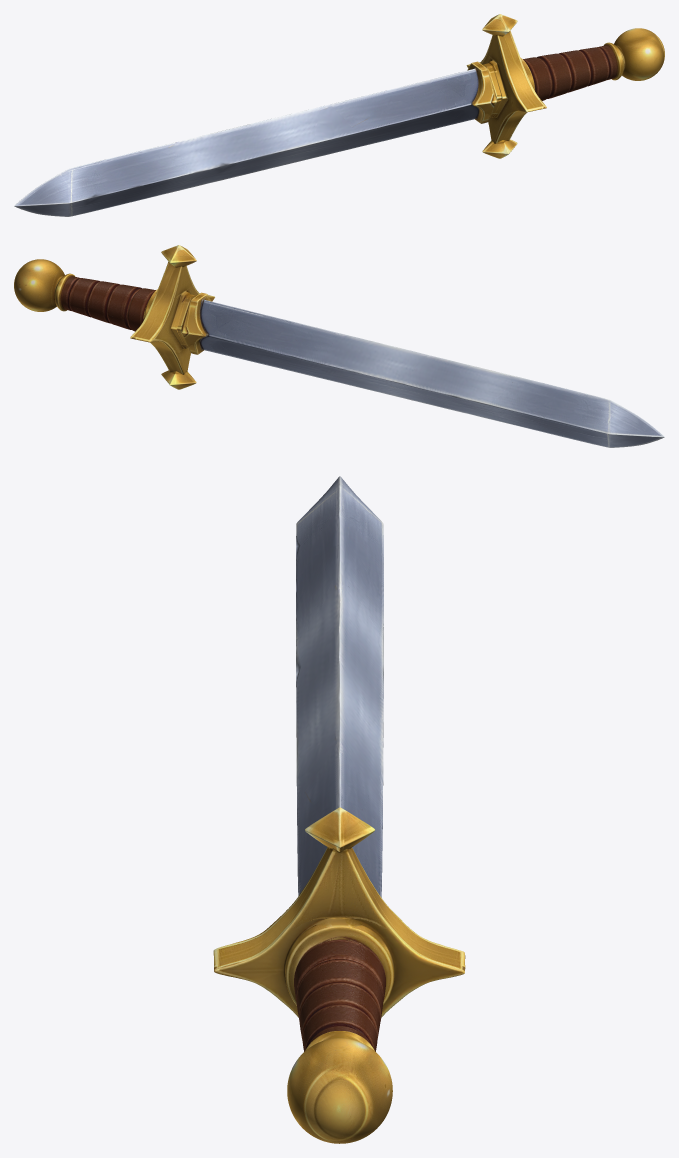
The model's file is Meshy_AI_Golden_Vanguard_0919225257_texture.fbx.
The picture shows the model from 3 angles, top to bottom: view 1: azimuth 30°, elevation 25°; view 2: azimuth 150°, elevation 25°; view 3: azimuth 270°, elevation 25°; orthographic projection. The views are drawn at different scales.
Parts seen in each view (by area): view 1: Mesh_0; view 2: Mesh_0; view 3: Mesh_0.
Boxes of the visible parts, left/top/right/bottom form: Mesh_0: left=14, top=14, right=664, bottom=216; Mesh_0: left=14, top=245, right=664, bottom=447; Mesh_0: left=213, top=476, right=465, bottom=1143.
Size of the model in its own units: 190 by 40.58 by 31.95.
Materials: 1 (1 with a texture image).
